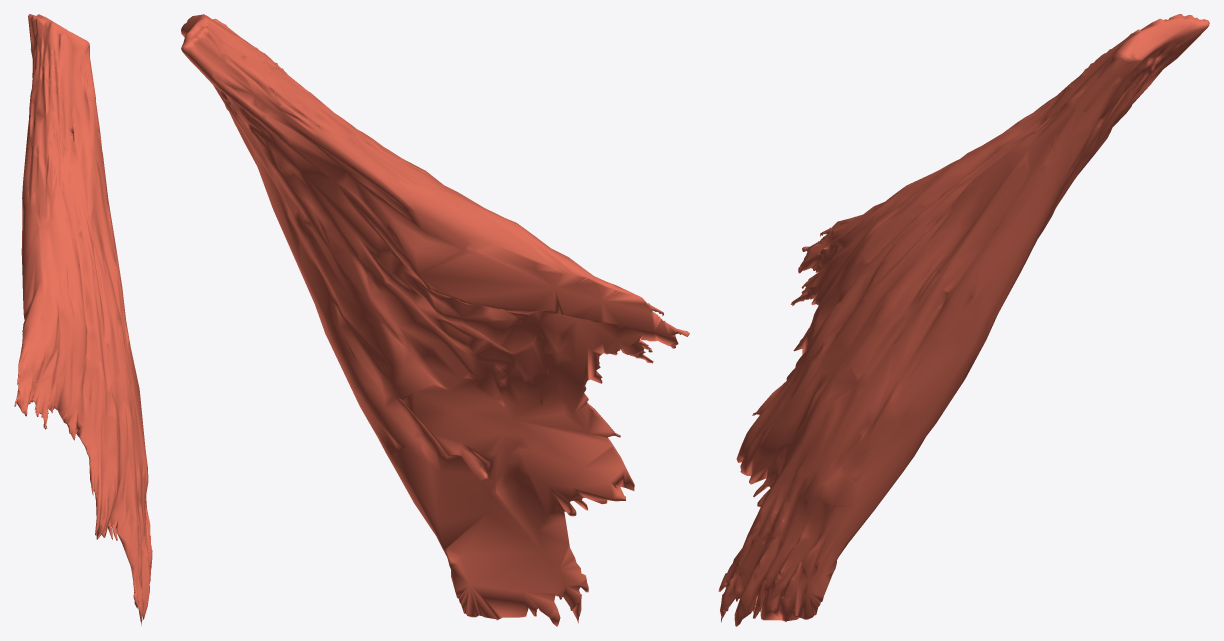
The model's file is pectoralis-minor.glb.
The picture shows the model from 3 angles, left to right: view 1: azimuth 30°, elevation 25°; view 2: azimuth 150°, elevation 25°; view 3: azimuth 270°, elevation 25°; orthographic projection. The views are drawn at different scales.
Visible parts, largest first — view 1: Pectoralis minor muscle.l; view 2: Pectoralis minor muscle.l; view 3: Pectoralis minor muscle.l.
Boxes of the visible parts, bbox=[...] form: Pectoralis minor muscle.l: bbox=[14, 14, 152, 625]; Pectoralis minor muscle.l: bbox=[181, 14, 689, 626]; Pectoralis minor muscle.l: bbox=[718, 14, 1209, 626].
Size of the model in its own units: 0.0589 by 0.1391 by 0.095.
